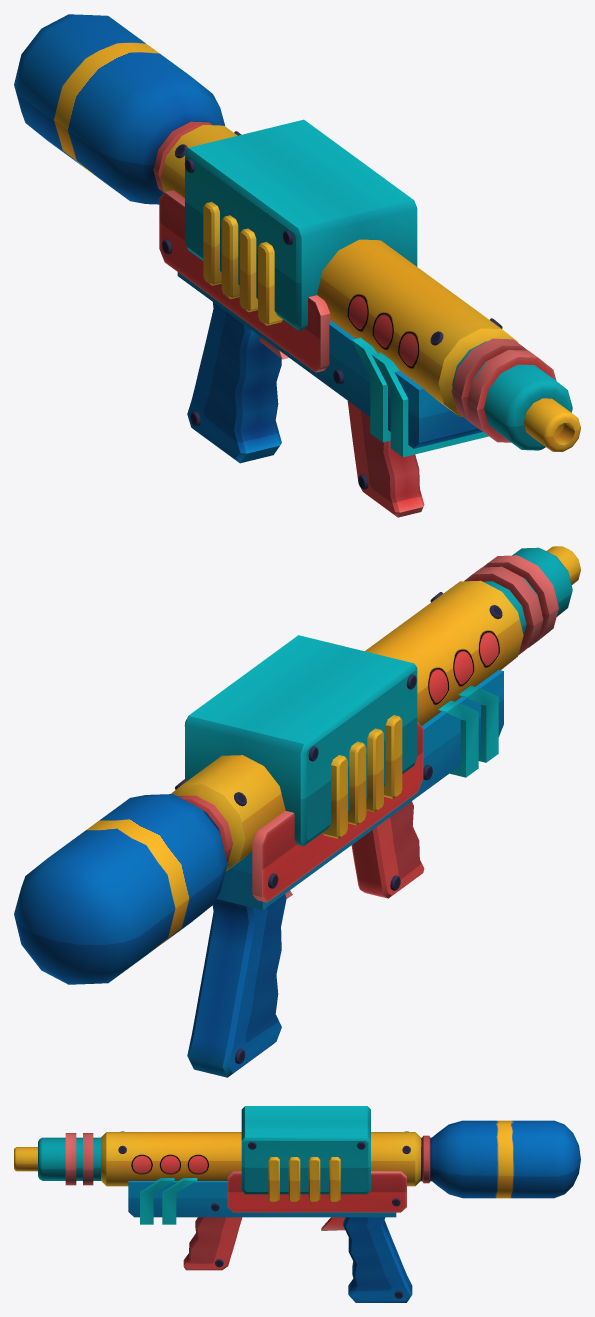
The model's file is Gun_model_2.FBX.
3 views of the same model, one above another, from view 1: azimuth 30°, elevation 25°; view 2: azimuth 150°, elevation 25°; view 3: azimuth 270°, elevation 25° (orthographic). The views are drawn at different scales.
Visible parts, largest first — view 1: Box001; view 2: Box001; view 3: Box001.
Part boxes in pixels (x1,y1,x2,y2): Box001: (14, 14, 580, 517); Box001: (14, 546, 580, 1077); Box001: (14, 1106, 580, 1302).
Size of the model in its own units: 19.12 by 42.57 by 124.
Materials: 1 (1 with a texture image).
